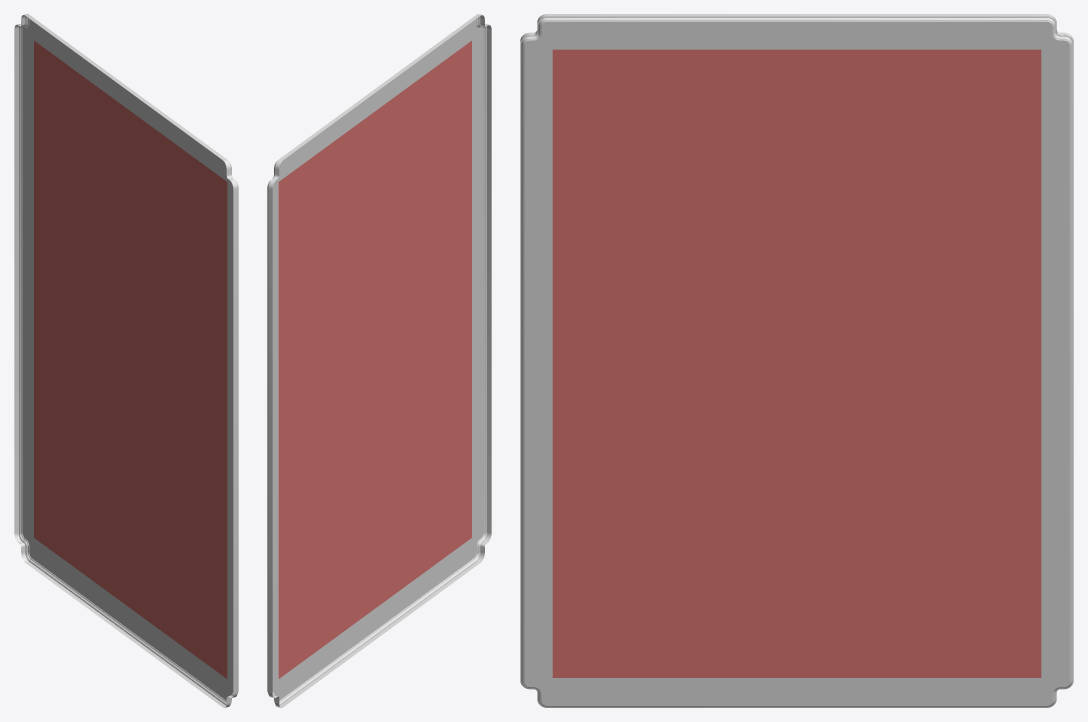
Rendered from Modular_Decorativo.fbx.
3 renders of one model, left to right at view 1: azimuth 30°, elevation 25°; view 2: azimuth 150°, elevation 25°; view 3: azimuth 270°, elevation 25°, orthographic. The views are drawn at different scales.
Visible parts, largest first — view 1: Cube.111; view 2: Cube.111; view 3: Cube.111.
Boxes of the visible parts, x1,y1,x2,y2 form: Cube.111: (14,14,238,707); Cube.111: (267,14,491,707); Cube.111: (520,14,1073,707).
Bounding box in the file's own units: 2.83 × 221 × 160.
